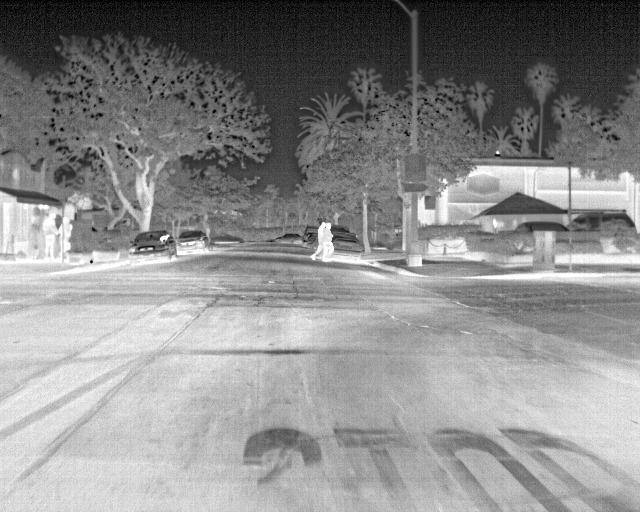bicycle: (566, 207, 633, 233), (125, 230, 178, 262), (500, 220, 569, 237), (172, 230, 210, 249), (330, 235, 363, 256)
empty: (41, 210, 61, 260), (308, 220, 328, 260), (323, 221, 335, 264), (63, 216, 75, 256)
